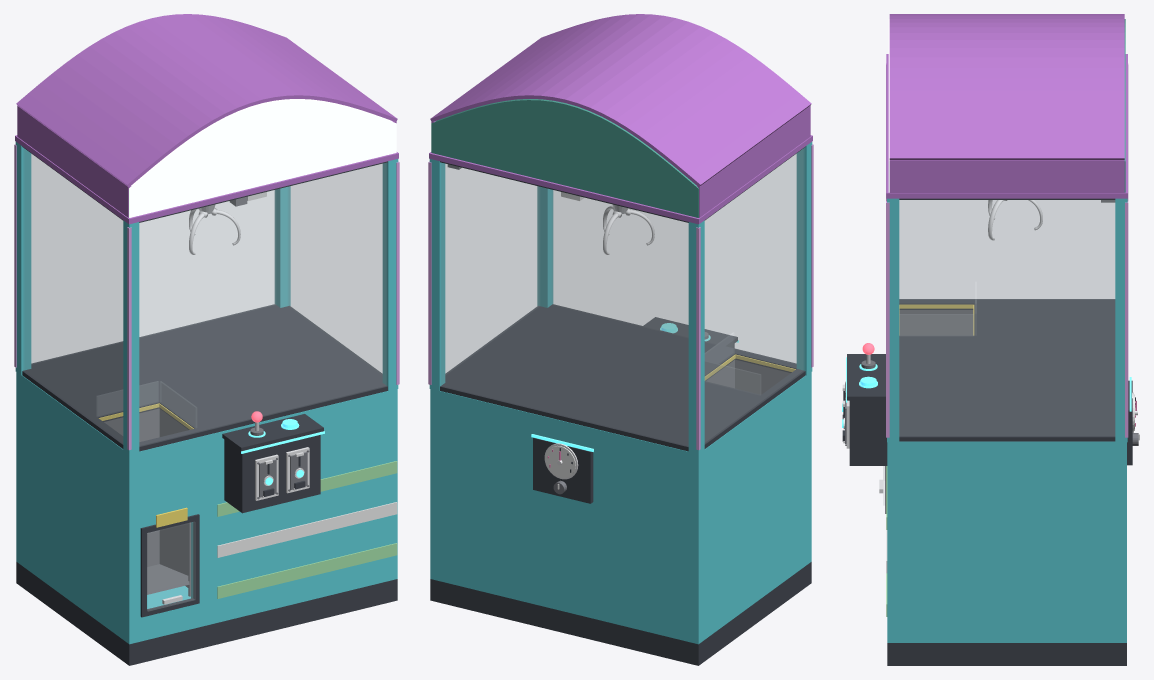
Rendered from MaquinaGarra.fbx.
The picture shows the model from 3 angles, left to right: view 1: azimuth 30°, elevation 25°; view 2: azimuth 150°, elevation 25°; view 3: azimuth 270°, elevation 25°; orthographic projection. The views are drawn at different scales.
Parts seen in each view (by area): view 1: Cristal_Frente, Cartel_Techo, Cristal_Atras, Cristal_Izq, Suelo_Juego_A, Mueble_Base, Cartel_Frente, Cristal_Der, Mueble_Fondo, Mueble_Lateral, Zocalo, Suelo_Juego_B (+26 smaller); view 2: Cristal_Atras, Mueble_Base, Cartel_Techo, Cristal_Frente, Mueble_Fondo, Cristal_Izq, Suelo_Juego_A, Cartel_Atras, Cristal_Der, Mueble_Lateral, Zocalo, Suelo_Juego_B (+16 smaller); view 3: Cristal_Der, Mueble_Base, Cartel_Techo, Suelo_Juego_A, Cristal_Izq, Cartel_Lateral_Der, Zocalo, Suelo_Juego_B, Poste_2, Consola_Cuerpo, Poste_4, Tolva_Izq (+6 smaller).
Part boxes in pixels (x1=…): Cristal_Frente: x1=139, y1=163, x2=386, y2=445; Cartel_Techo: x1=16, y1=14, x2=397, y2=186; Cristal_Atras: x1=32, y1=155, x2=274, y2=363; Cristal_Izq: x1=24, y1=149, x2=122, y2=442; Suelo_Juego_A: x1=88, y1=304, x2=387, y2=436; Mueble_Base: x1=216, y1=389, x2=397, y2=622; Cartel_Frente: x1=129, y1=99, x2=396, y2=217; Cristal_Der: x1=289, y1=164, x2=381, y2=372; Mueble_Fondo: x1=16, y1=372, x2=74, y2=603; Mueble_Lateral: x1=74, y1=414, x2=133, y2=620; Zocalo: x1=16, y1=562, x2=397, y2=665; Suelo_Juego_B: x1=22, y1=350, x2=159, y2=423; Cristal_Atras: x1=441, y1=163, x2=688, y2=445; Mueble_Base: x1=430, y1=389, x2=611, y2=622; Cartel_Techo: x1=430, y1=14, x2=811, y2=186; Cristal_Frente: x1=553, y1=155, x2=795, y2=363; Mueble_Fondo: x1=612, y1=411, x2=756, y2=644; Cristal_Izq: x1=705, y1=149, x2=803, y2=442; Suelo_Juego_A: x1=440, y1=304, x2=739, y2=436; Cartel_Atras: x1=431, y1=99, x2=698, y2=217; Cristal_Der: x1=446, y1=164, x2=538, y2=372; Mueble_Lateral: x1=757, y1=372, x2=811, y2=577; Zocalo: x1=430, y1=562, x2=811, y2=665; Suelo_Juego_B: x1=627, y1=381, x2=770, y2=451; Cristal_Der: x1=899, y1=200, x2=1114, y2=435; Mueble_Base: x1=887, y1=441, x2=1126, y2=642; Cartel_Techo: x1=889, y1=14, x2=1124, y2=159; Suelo_Juego_A: x1=899, y1=335, x2=1115, y2=441; Cristal_Izq: x1=900, y1=200, x2=1114, y2=298; Cartel_Lateral_Der: x1=889, y1=160, x2=1124, y2=192; Zocalo: x1=887, y1=643, x2=1126, y2=665; Suelo_Juego_B: x1=974, y1=299, x2=1115, y2=335; Poste_2: x1=887, y1=198, x2=899, y2=442; Consola_Cuerpo: x1=849, y1=400, x2=887, y2=465; Poste_4: x1=1115, y1=198, x2=1127, y2=442; Tolva_Izq: x1=899, y1=310, x2=973, y2=335.
Size of the model in its own units: 131 by 247 by 118.
